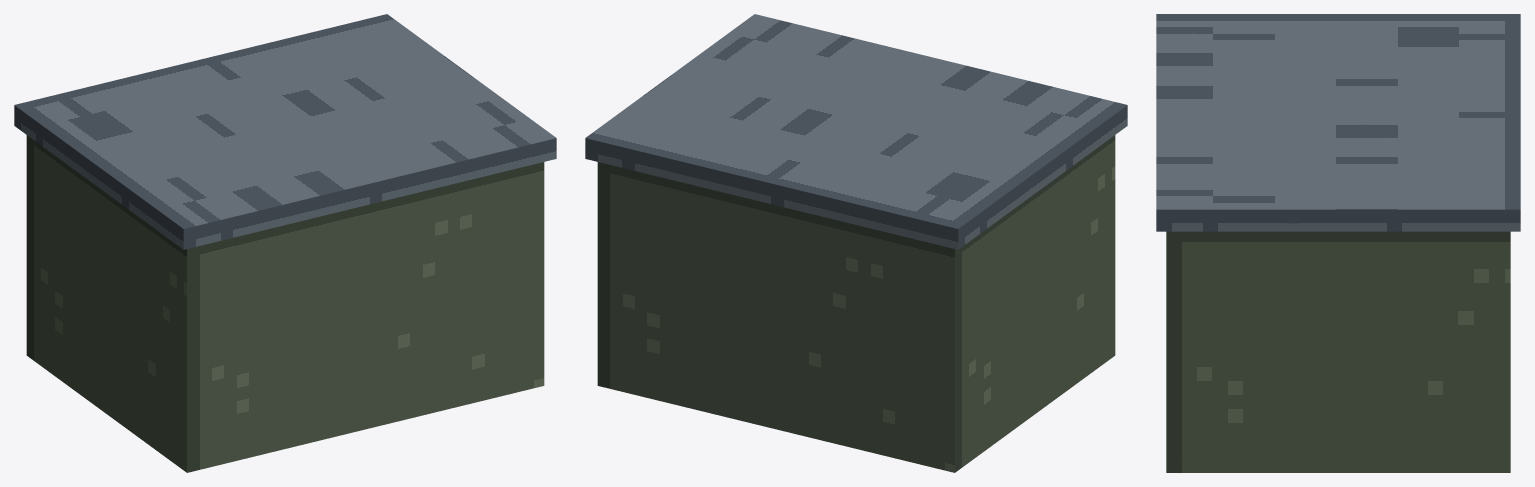
The model's file is crate.glb.
3 views of the same model, side by side, from view 1: azimuth 30°, elevation 25°; view 2: azimuth 150°, elevation 25°; view 3: azimuth 270°, elevation 25° (orthographic). The views are drawn at different scales.
Parts seen in each view (by area): view 1: crate mesh; view 2: crate mesh; view 3: crate mesh.
Part boxes in pixels (box(x1,y1,x2,y2)): crate mesh: box(14, 14, 556, 472); crate mesh: box(585, 14, 1127, 472); crate mesh: box(1156, 14, 1520, 472).
Size of the model in its own units: 0.94 by 0.6 by 0.74.
Materials: 2 (2 with a texture image).
